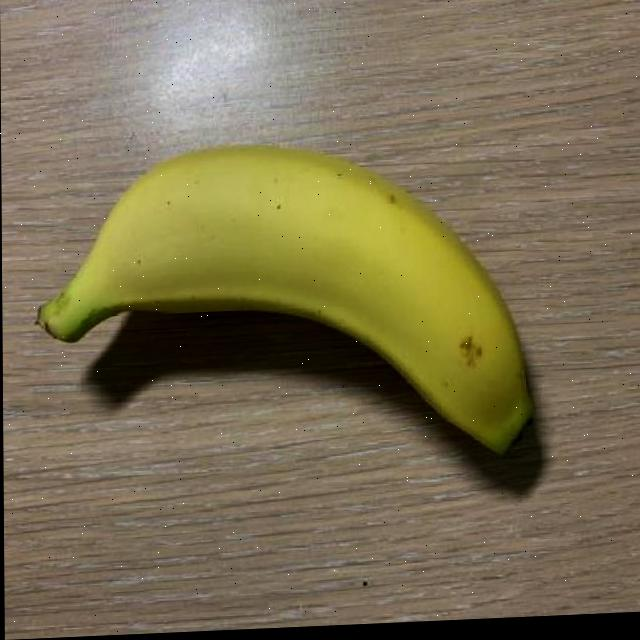banana: (31, 126, 536, 487)
